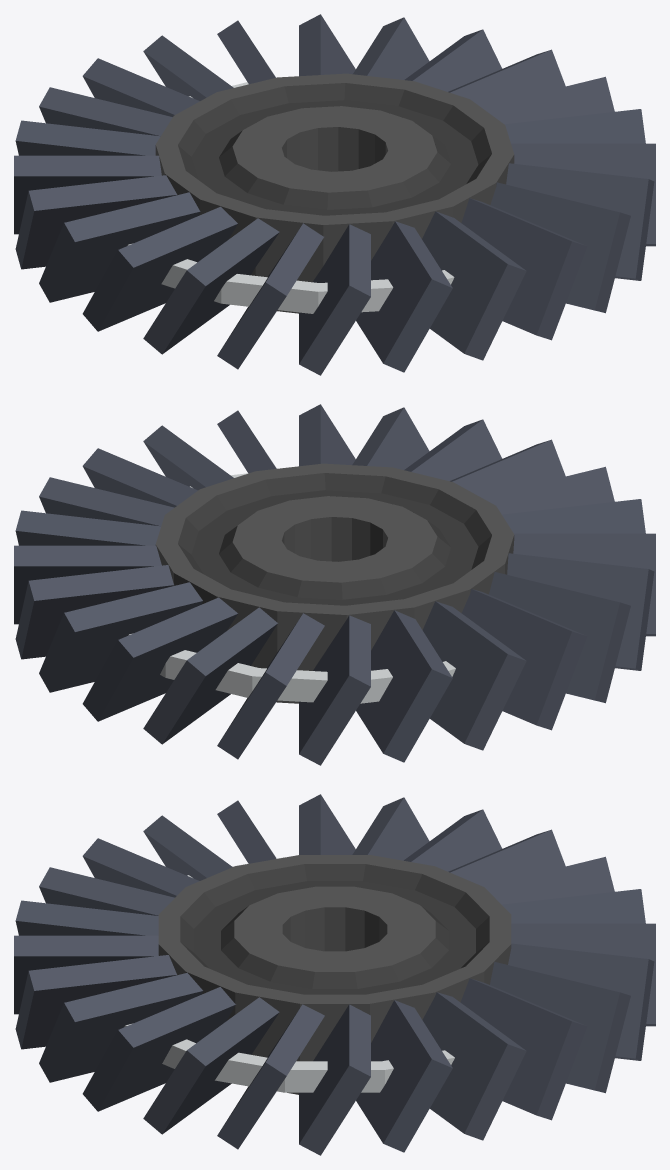
The model's file is rotor_tungsten_steel.obj.
3 views of the same model, one above another, from view 1: azimuth 30°, elevation 25°; view 2: azimuth 150°, elevation 25°; view 3: azimuth 270°, elevation 25° (orthographic).
Parts seen in each view (by area): view 1: 3, 2, 1, g, f, h, c, a, q, e, r, i (+16 smaller); view 2: 3, 2, 1, s, r, t, x, b, a, w, j, u (+16 smaller); view 3: 3, 2, 1, k, j, l, p, q, b, o, f, m (+16 smaller).
Part boxes in pixels (x1,y1,x2,y2): 3: [178, 83, 491, 215]; 2: [155, 73, 514, 313]; 1: [232, 106, 437, 192]; g: [422, 211, 526, 360]; f: [461, 198, 587, 340]; h: [356, 221, 452, 372]; c: [82, 206, 237, 331]; a: [39, 192, 200, 302]; q: [490, 182, 630, 313]; e: [143, 218, 279, 354]; r: [15, 175, 177, 269]; i: [299, 224, 370, 375]; 3: [178, 473, 491, 605]; 2: [155, 463, 514, 703]; 1: [232, 496, 437, 582]; s: [422, 601, 526, 750]; r: [461, 589, 587, 730]; t: [356, 610, 452, 762]; x: [82, 597, 238, 721]; b: [39, 582, 202, 692]; a: [489, 572, 630, 703]; w: [143, 607, 277, 744]; j: [15, 565, 174, 659]; u: [299, 615, 370, 765]; 3: [180, 864, 489, 994]; 2: [158, 855, 511, 1094]; 1: [234, 886, 435, 971]; k: [422, 992, 526, 1140]; j: [460, 978, 587, 1120]; l: [356, 1000, 452, 1152]; p: [82, 987, 235, 1111]; q: [39, 972, 202, 1082]; b: [490, 961, 630, 1093]; o: [143, 997, 279, 1134]; f: [15, 955, 176, 1049]; m: [299, 1004, 370, 1155].
Bounding box in the file's own units: 1.59 × 0.25 × 1.59.
